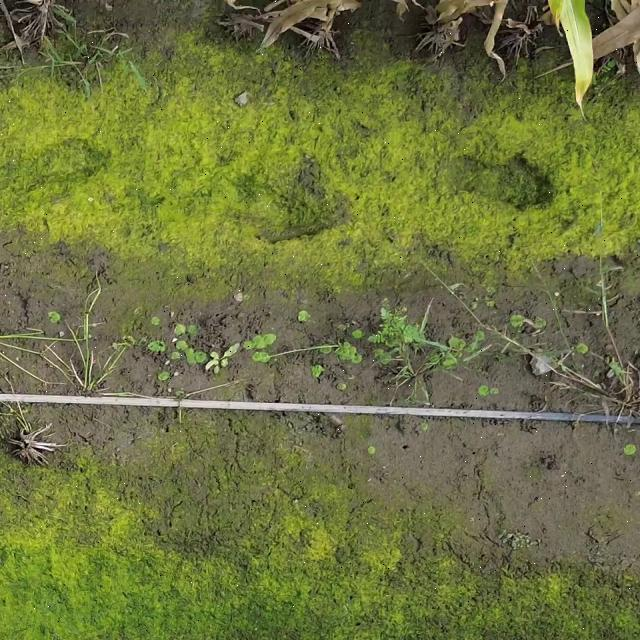northern-leaf-blight: (550, 11, 611, 122)
